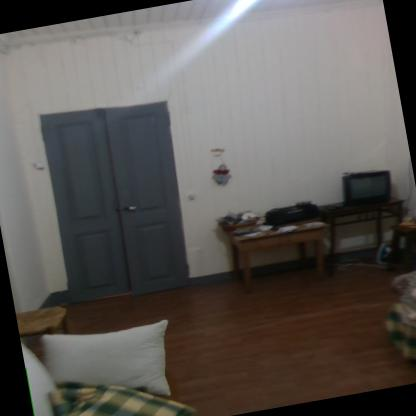closed: (25, 78, 214, 312)
